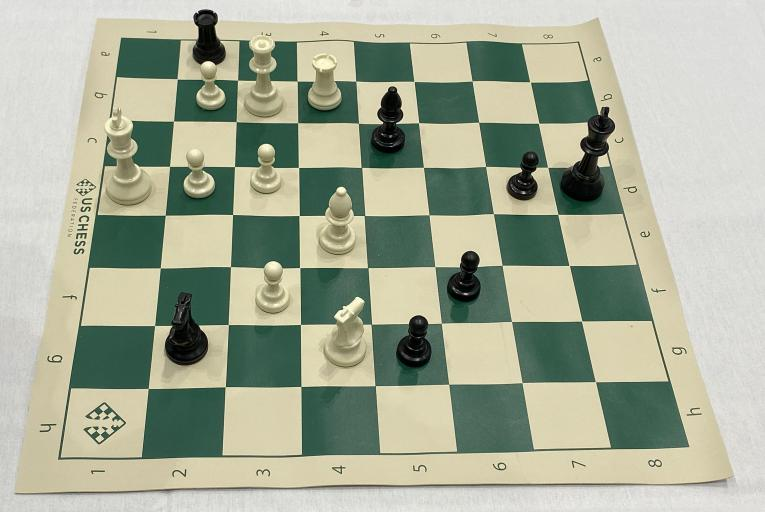black-bishop: (369, 83, 411, 159)
black-king: (559, 102, 625, 209)
black-knight: (159, 291, 214, 374)
black-pawn: (392, 311, 438, 372), (447, 244, 487, 307), (505, 150, 546, 205)
black-rook: (184, 6, 231, 69)
white-bishop: (316, 183, 361, 262)
white-king: (98, 105, 158, 210)
white-knight: (322, 291, 372, 375)
white-pawn: (252, 258, 296, 320), (179, 146, 222, 204), (249, 140, 290, 200), (193, 59, 230, 116)
white-queen: (239, 30, 291, 122)
white-rook: (305, 49, 349, 117)
